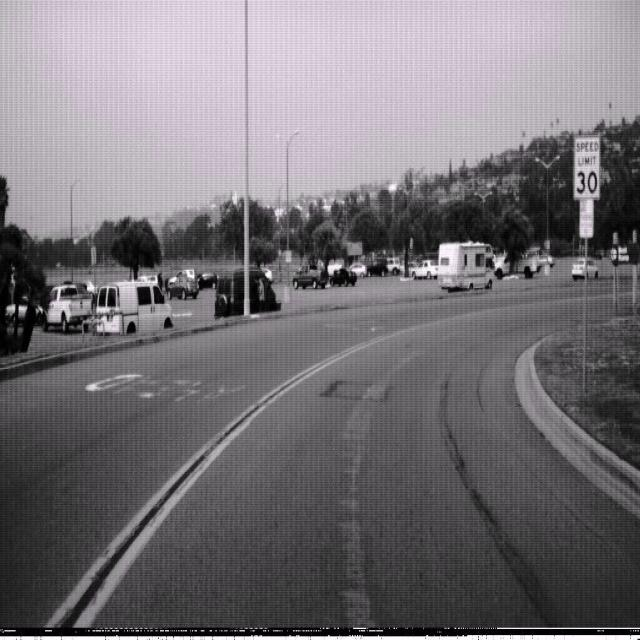speedLimit30: (572, 133, 600, 200)
